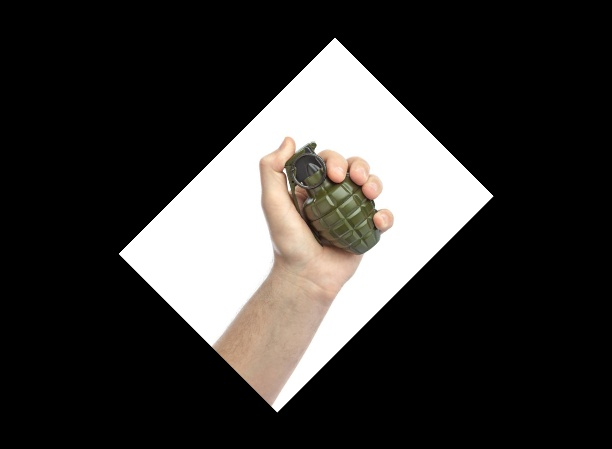e1: (280, 137, 380, 253)
